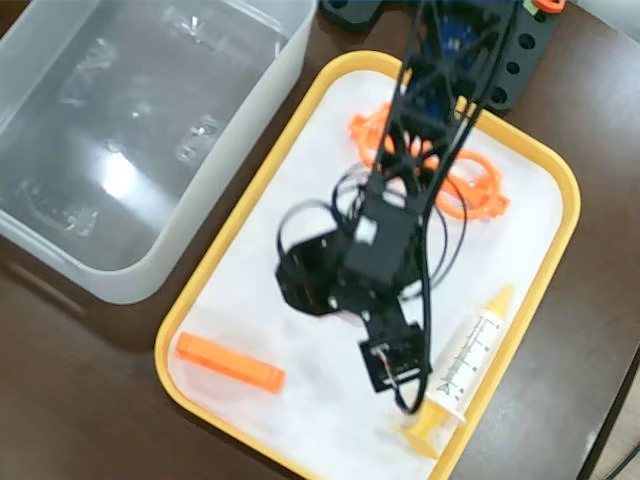syringe: (392, 282, 518, 458)
